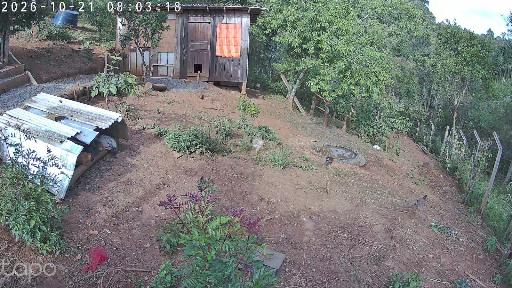galinha: (412, 193, 429, 219), (96, 135, 118, 154), (250, 133, 267, 157), (324, 155, 336, 169)
